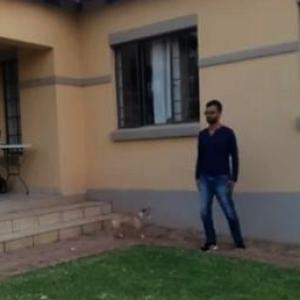follow: (192, 96, 245, 256)
